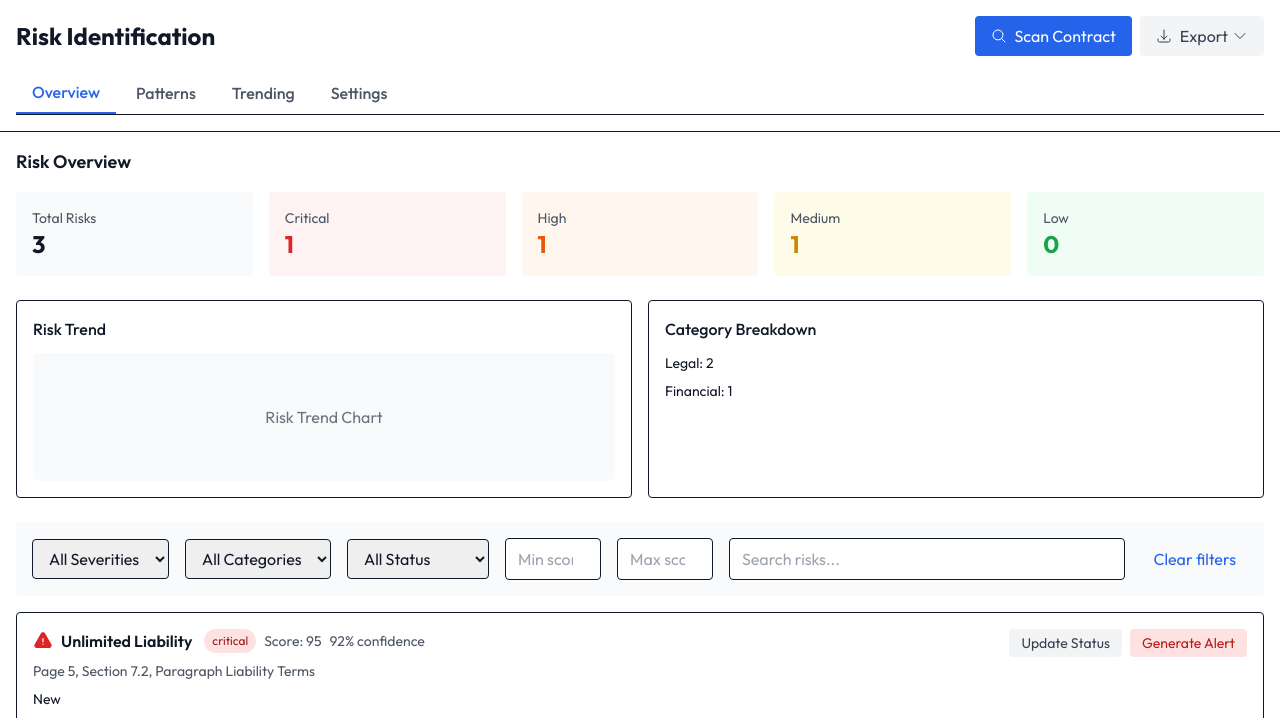
Test: RiskIdentification › Risk Filtering › should filter by status
Select "Reviewed" in the dropdown named "Filter by status" at point(418, 559), box left=347, top=539, right=489, bottom=579
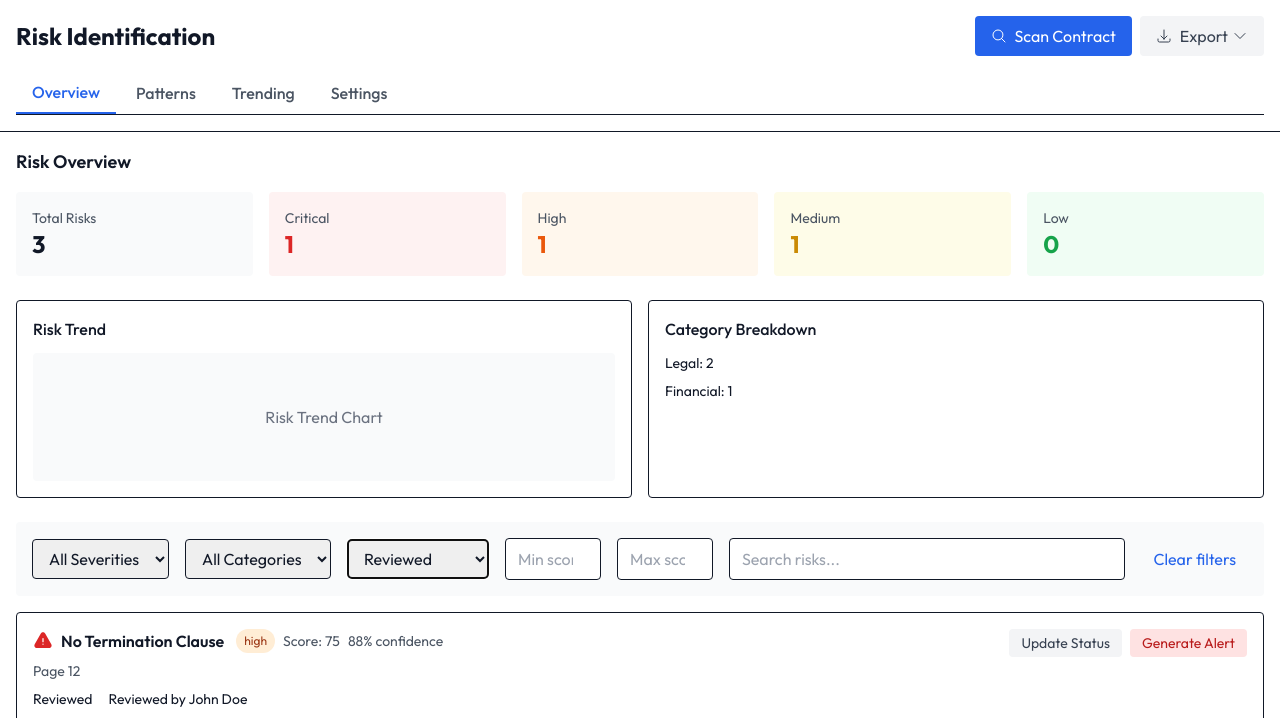
Check: the heading "No Termination Clause" is shown, box left=61, top=629, right=224, bottom=653
Check: the heading "Unlimited Liability" is gone
